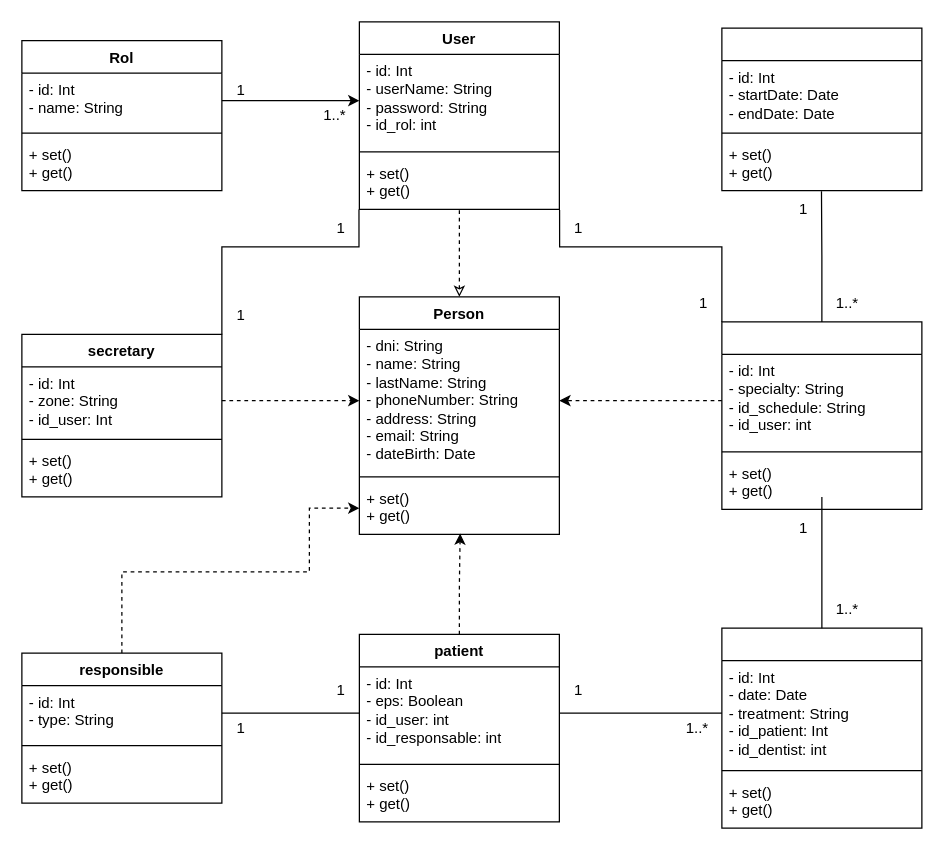
The diagram is 944 pixels wide and 854 high, and some of its shapes have lost their labels. Here are the shapes that lost their labels. From the top down, the box of each, then its label:
(721, 27, 922, 191): schedule
(721, 321, 922, 509): dentist
(721, 627, 922, 828): turn
